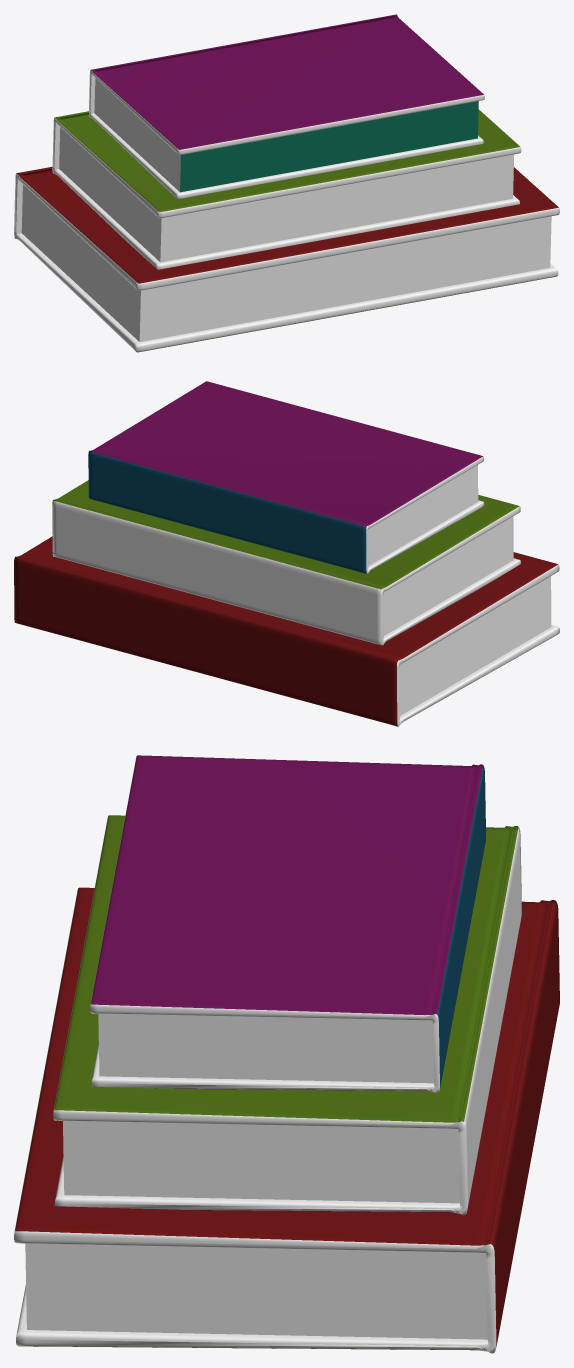
The model's file is Books01.fbx.
3 views of the same model, one above another, from view 1: azimuth 30°, elevation 25°; view 2: azimuth 150°, elevation 25°; view 3: azimuth 270°, elevation 25° (orthographic). The views are drawn at different scales.
Parts seen in each view (by area): view 1: Book009, Book007, Book008; view 2: Book009, Book007, Book008; view 3: Book009, Book007, Book008.
Boxes of the visible parts, left/top/right/bottom form: Book009: left=89, top=14, right=484, bottom=198; Book007: left=14, top=166, right=559, bottom=352; Book008: left=52, top=109, right=521, bottom=269; Book009: left=88, top=381, right=484, bottom=573; Book007: left=14, top=536, right=559, bottom=726; Book008: left=52, top=480, right=520, bottom=645; Book009: left=90, top=755, right=485, bottom=1093; Book007: left=14, top=887, right=559, bottom=1353; Book008: left=53, top=815, right=521, bottom=1215.
Size of the model in its own units: 12.12 by 5.09 by 8.03.
Materials: 1 (1 with a texture image).
